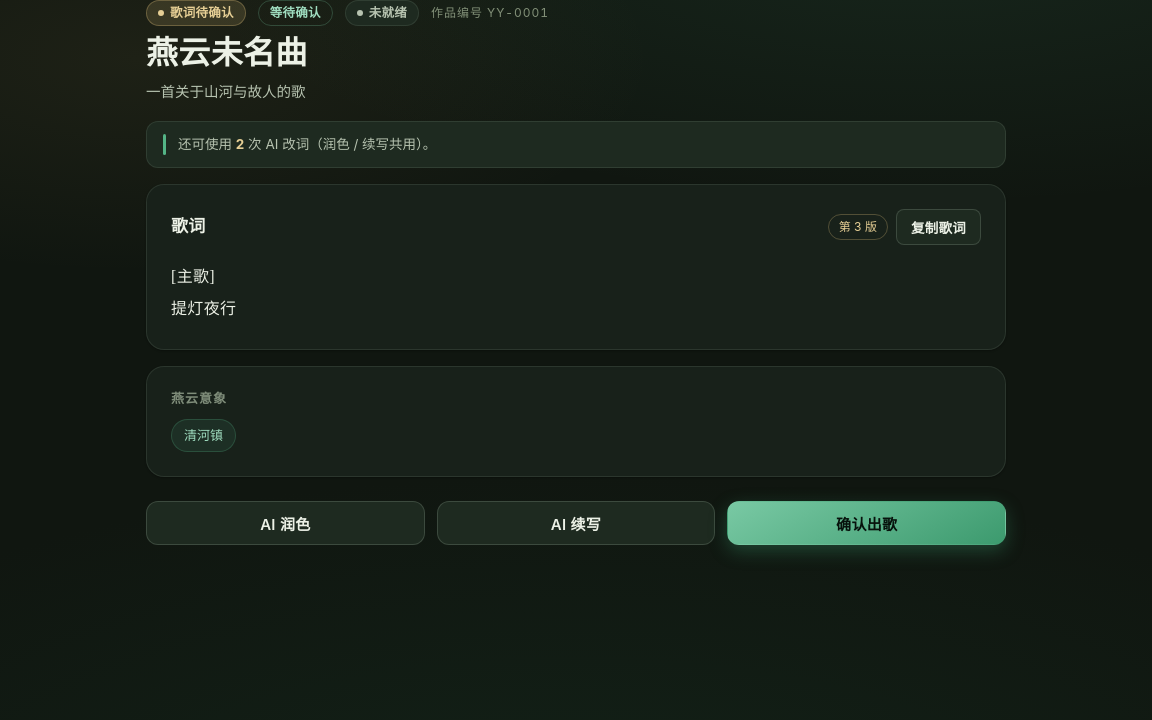
Test case: ConfirmView › returns to the page polling state when a disconnected edit request already created a backend job
The width and height of the screenshot is (1152, 720).
Click the button "AI 润色": (285, 523) [146,501,425,545]
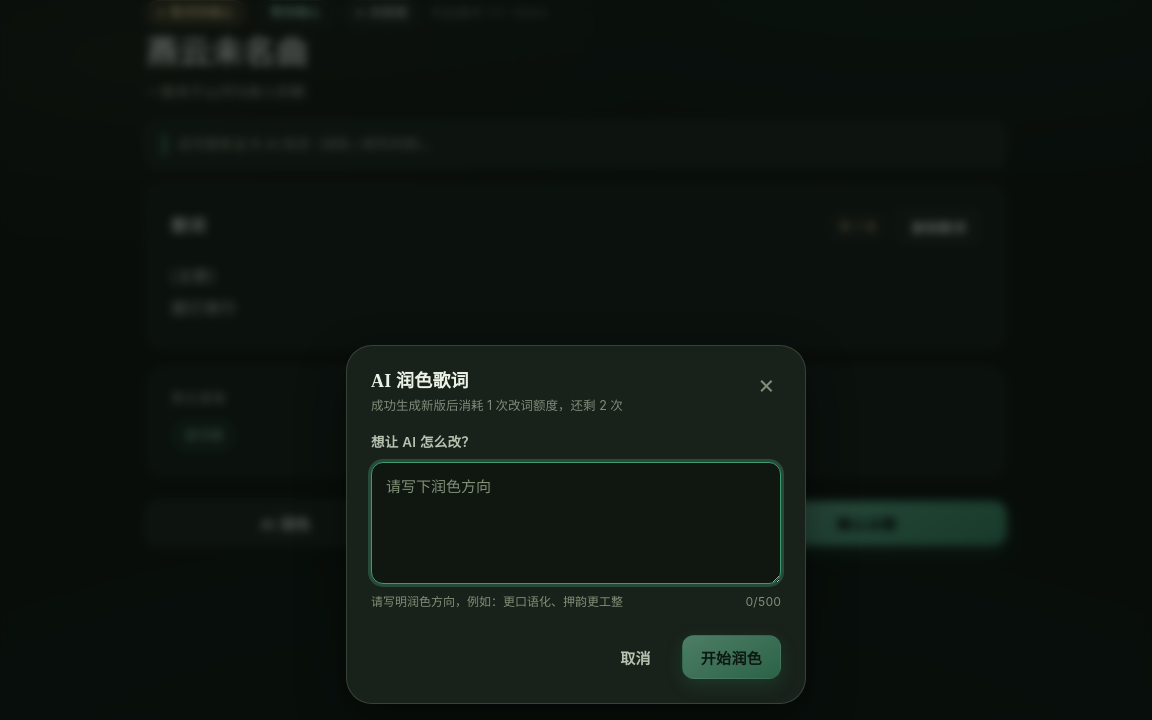
In the text box labelled "想让 AI 怎么改？ 请写明润色方向，例如：更口语化、押韵更工整 0/500": (576, 523) [371,462,781,584], type "更押韵一点"
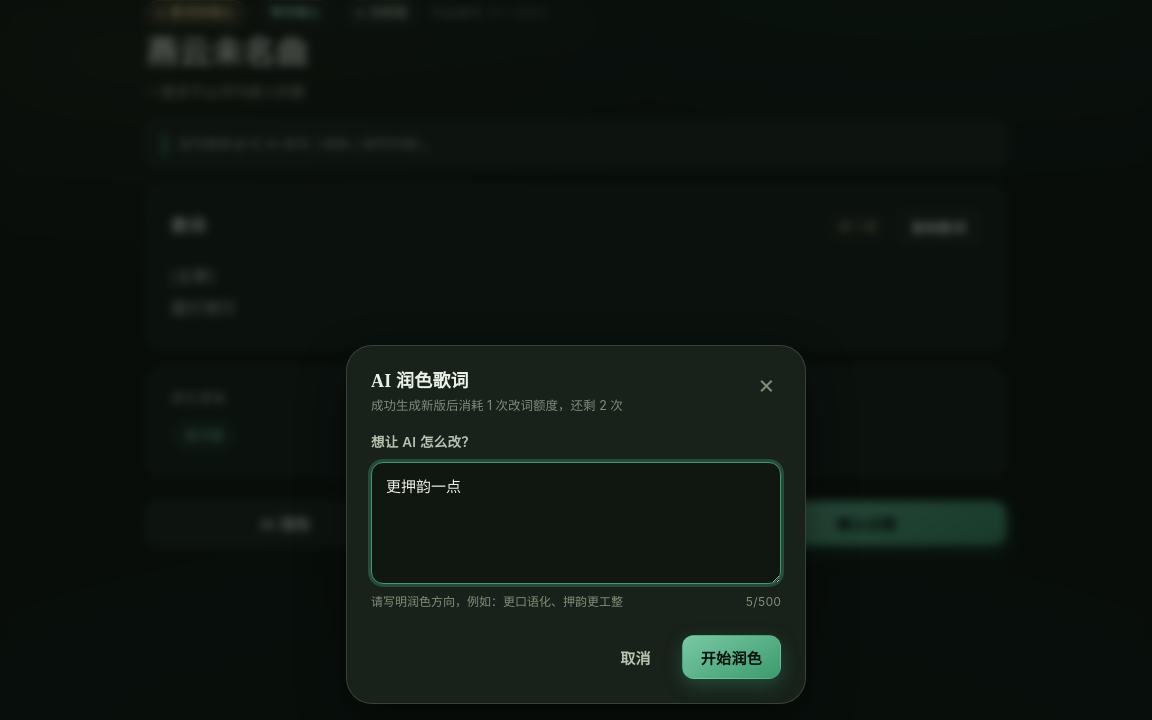
Click the button "开始润色": (731, 657) [682,635,781,679]
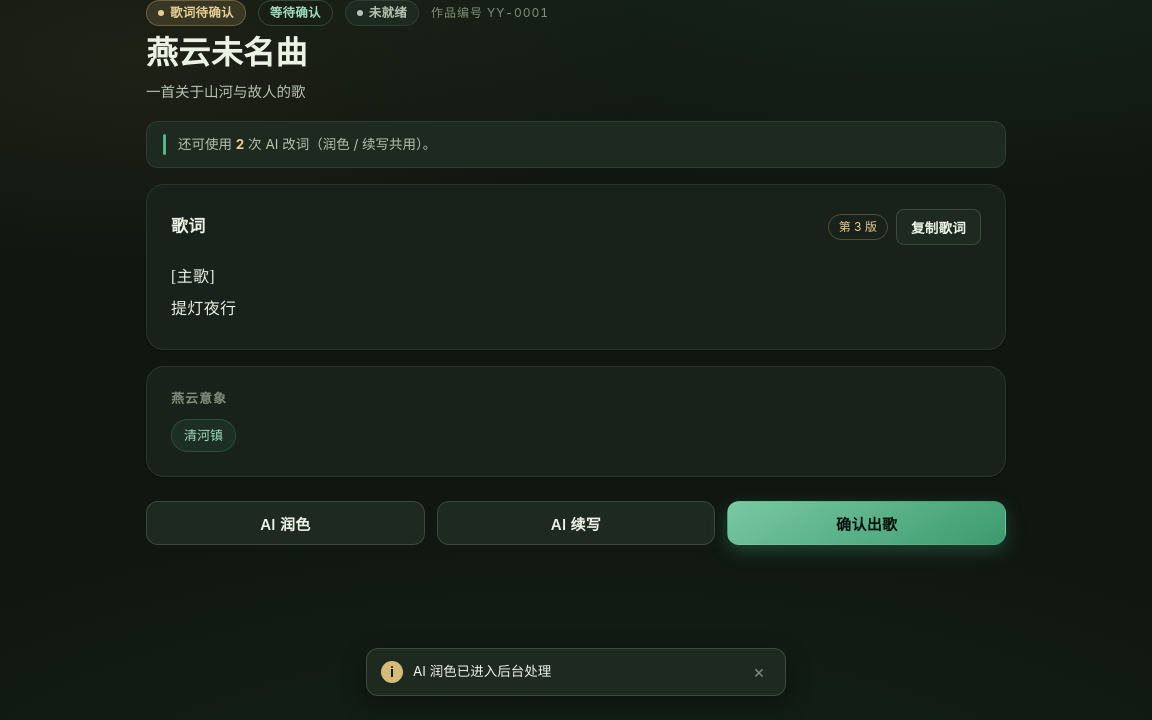
Now the heading "AI 润色歌词" is gone
Now the text "AI 润色已进入后台处理" is shown, box [413,663,551,679]
